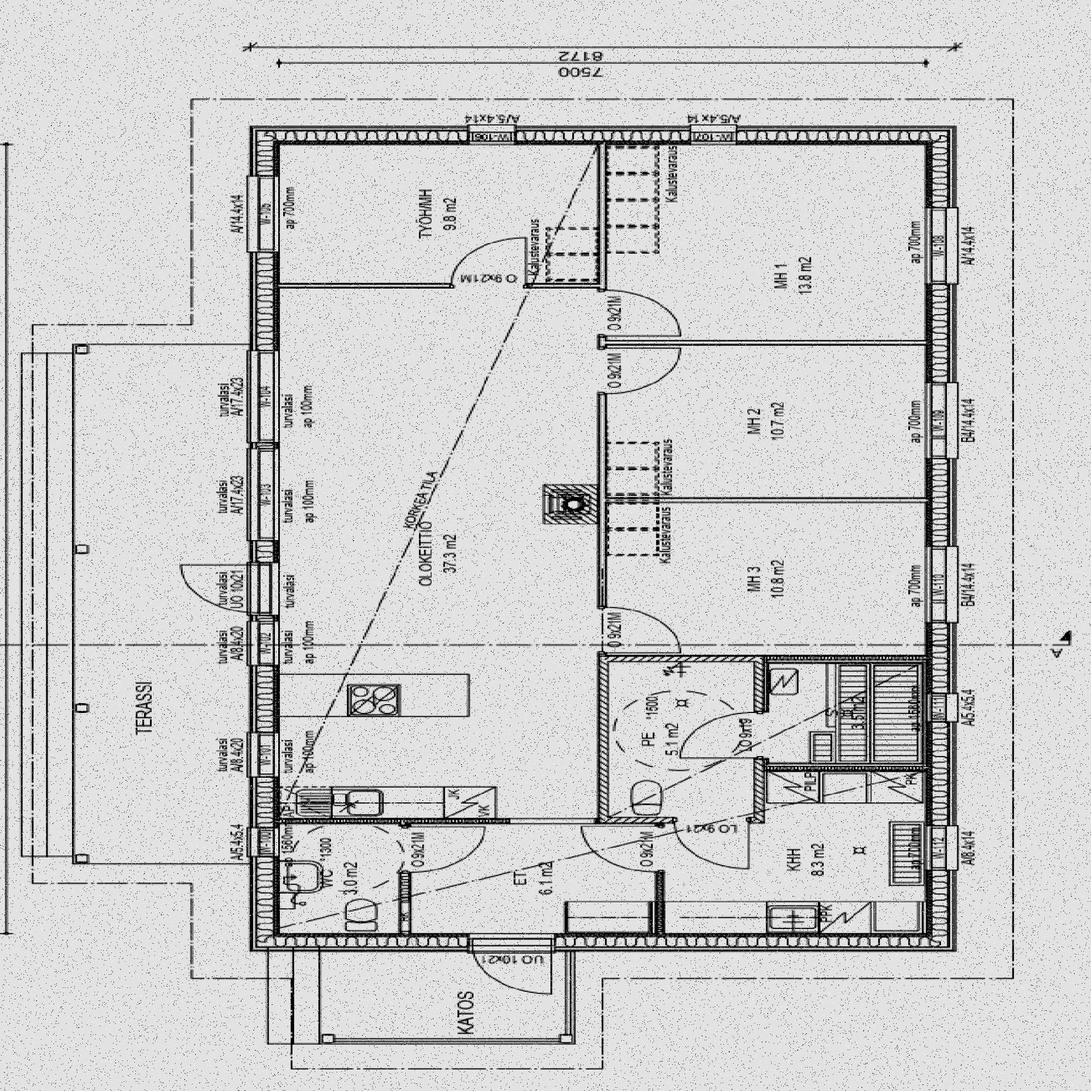wall: (250, 125, 278, 952), (927, 125, 954, 952), (251, 935, 954, 952), (251, 125, 954, 142), (599, 142, 609, 825), (278, 819, 608, 825), (278, 283, 599, 289), (608, 498, 927, 504), (608, 341, 927, 346), (757, 656, 766, 825), (757, 656, 927, 662), (599, 819, 766, 825), (657, 825, 666, 935), (400, 825, 409, 935), (766, 765, 927, 771), (608, 656, 766, 662)
